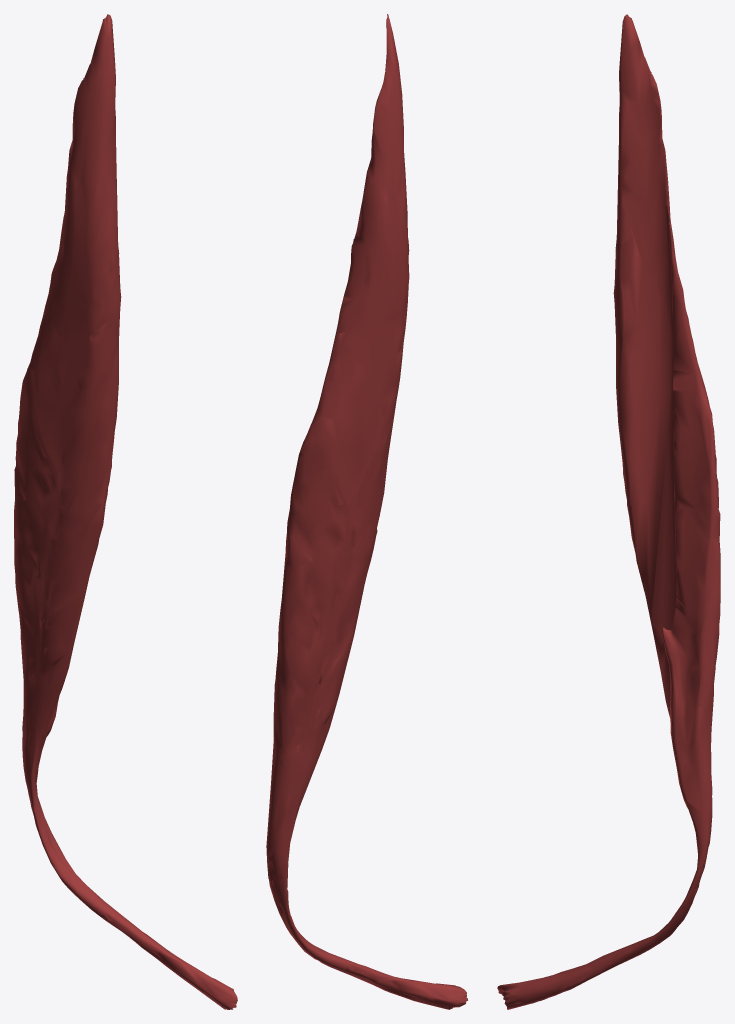
Rendered from fibularis-brevis-muscle-r.glb.
The picture shows the model from 3 angles, left to right: view 1: azimuth 90°, elevation 25°; view 2: azimuth 150°, elevation 25°; view 3: azimuth 270°, elevation 25°; orthographic projection. The views are drawn at different scales.
Visible parts, largest first — view 1: Fibularis brevis muscle.r; view 2: Fibularis brevis muscle.r; view 3: Fibularis brevis muscle.r.
Part boxes in pixels (box(x1,y1,x2,y2)): Fibularis brevis muscle.r: box(14, 14, 237, 1009); Fibularis brevis muscle.r: box(266, 14, 467, 1009); Fibularis brevis muscle.r: box(497, 14, 720, 1009).
Bounding box in the file's own units: 0.0284 × 0.2689 × 0.0548.
